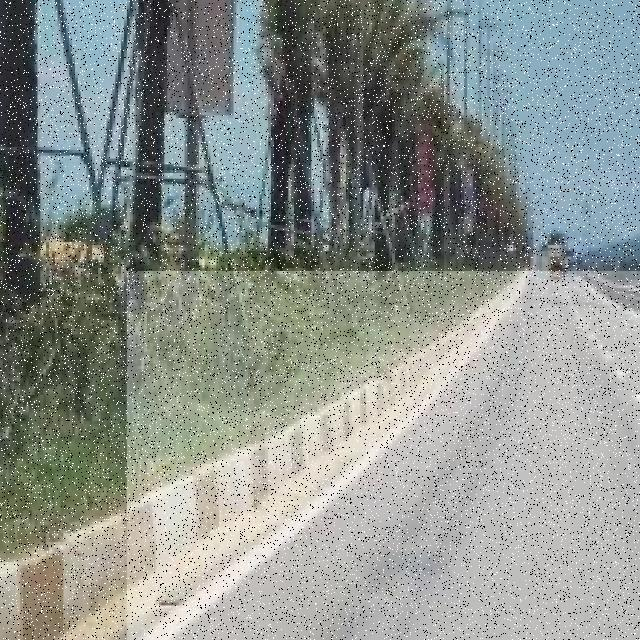clear-road: (178, 271, 640, 640)
